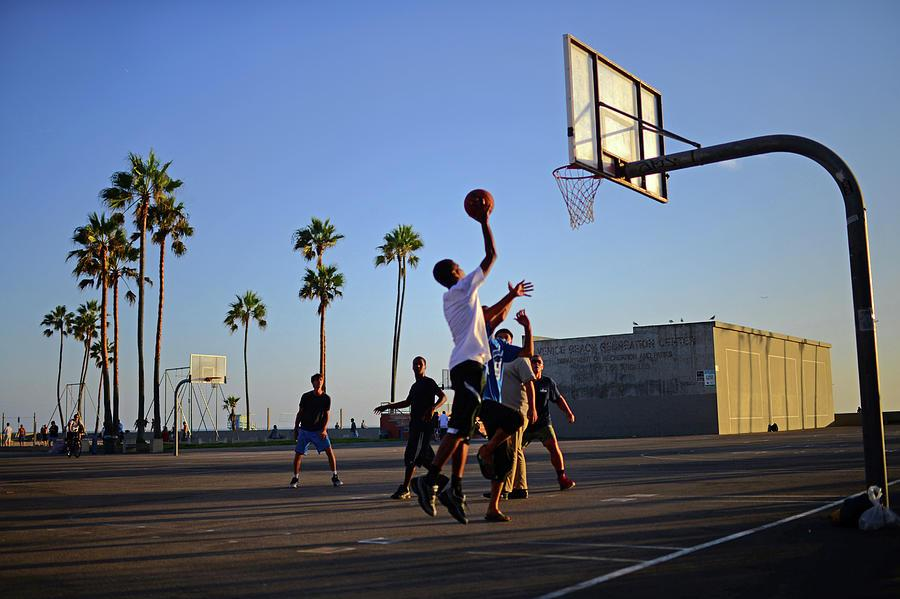basketball: (466, 189, 497, 222)
